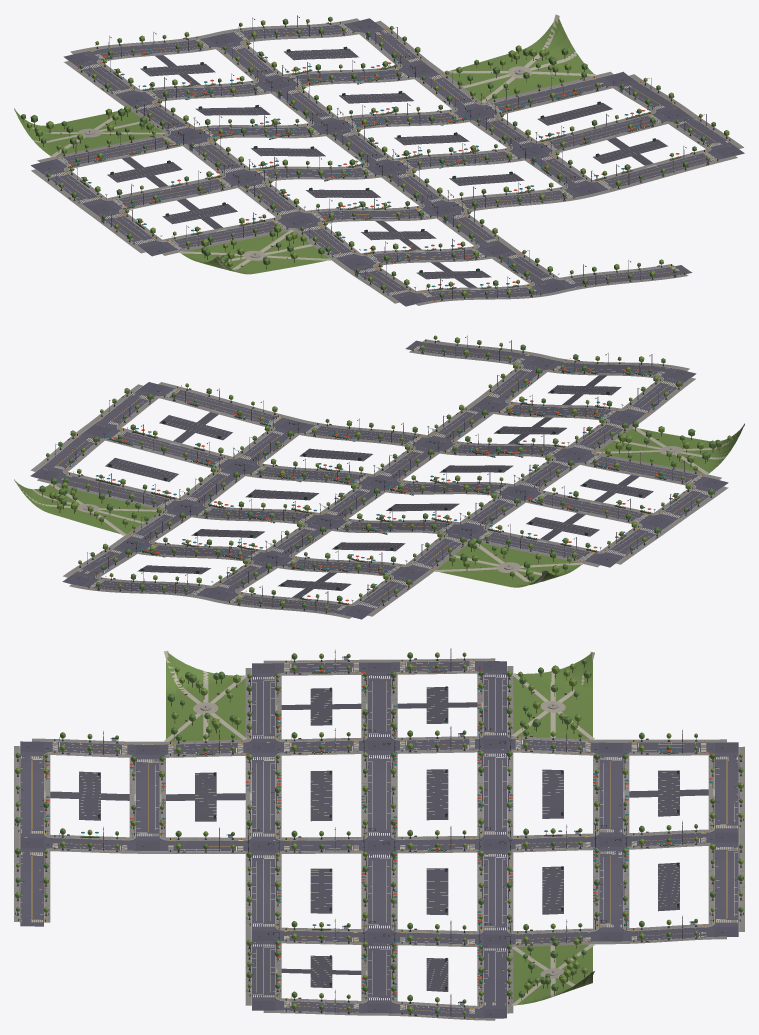
Rendered from roads_city.glb.
The picture shows the model from 3 angles, top to bottom: view 1: azimuth 30°, elevation 25°; view 2: azimuth 150°, elevation 25°; view 3: azimuth 270°, elevation 25°; orthographic projection. The views are drawn at different scales.
Visible parts, largest first — view 1: city_asphalt, city_sidewalk, city_furniture, city_lot, city_parkgrass, city_junction, city_kerb, city_marking, city_courts, city_parkpath, city_marking_yellow, city_plaza; view 2: city_asphalt, city_sidewalk, city_furniture, city_lot, city_parkgrass, city_junction, city_kerb, city_marking, city_courts, city_parkpath, city_marking_yellow; view 3: city_asphalt, city_sidewalk, city_lot, city_furniture, city_parkgrass, city_marking, city_junction, city_kerb, city_courts, city_parkpath, city_joint, city_marking_yellow (+1 smaller).
Boxes of the visible parts, bbox=[...] form: city_asphalt: bbox=[42, 23, 733, 301]; city_sidewalk: bbox=[31, 18, 743, 305]; city_furniture: bbox=[45, 15, 730, 301]; city_lot: bbox=[107, 48, 667, 287]; city_parkgrass: bbox=[15, 18, 593, 274]; city_junction: bbox=[31, 18, 744, 306]; city_kerb: bbox=[36, 20, 739, 304]; city_marking: bbox=[49, 24, 727, 300]; city_courts: bbox=[21, 45, 656, 273]; city_parkpath: bbox=[14, 14, 595, 270]; city_marking_yellow: bbox=[59, 29, 715, 296]; city_plaza: bbox=[77, 66, 531, 260]; city_asphalt: bbox=[41, 340, 717, 614]; city_sidewalk: bbox=[30, 339, 728, 618]; city_furniture: bbox=[44, 335, 714, 613]; city_lot: bbox=[105, 375, 653, 597]; city_parkgrass: bbox=[15, 426, 743, 587]; city_junction: bbox=[30, 356, 728, 619]; city_kerb: bbox=[35, 342, 723, 616]; city_marking: bbox=[54, 342, 709, 613]; city_courts: bbox=[39, 390, 731, 590]; city_parkpath: bbox=[14, 423, 744, 583]; city_marking_yellow: bbox=[58, 347, 700, 608]; city_asphalt: bbox=[20, 661, 738, 1018]; city_sidewalk: bbox=[14, 658, 744, 1020]; city_lot: bbox=[50, 687, 708, 991]; city_furniture: bbox=[15, 648, 743, 1018]; city_parkgrass: bbox=[166, 652, 592, 1005]; city_marking: bbox=[21, 661, 737, 1013]; city_junction: bbox=[20, 661, 738, 1018]; city_kerb: bbox=[19, 660, 739, 1018]; city_courts: bbox=[98, 658, 678, 1000]; city_parkpath: bbox=[164, 650, 594, 1005]; city_joint: bbox=[14, 659, 744, 1019]; city_marking_yellow: bbox=[31, 666, 727, 1013].
Size of the model in its own units: 404 by 47.09 by 404.
